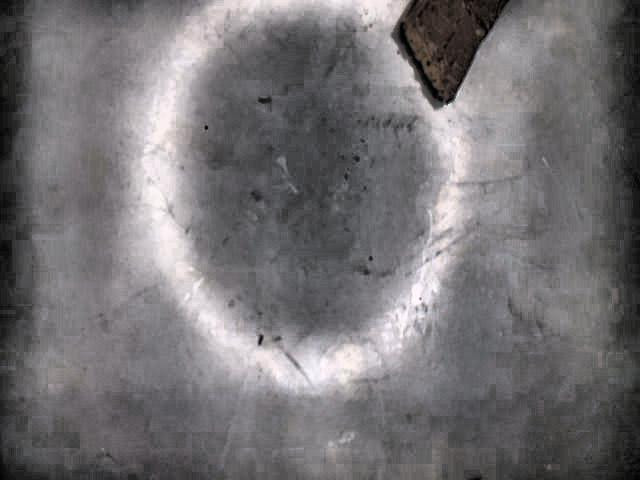Almennt: (398, 0, 514, 107)
